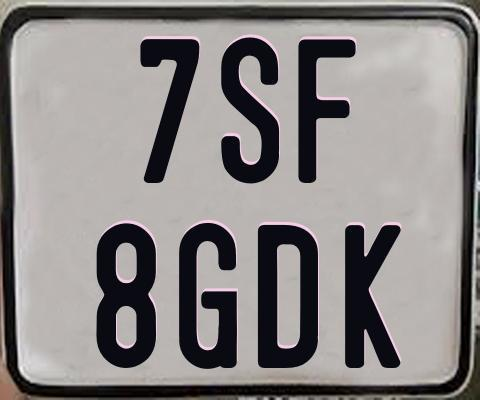7: (139, 36, 204, 180)
8: (96, 221, 161, 371)
D: (257, 223, 323, 369)
F: (298, 37, 360, 187)
G: (179, 223, 239, 369)
K: (342, 223, 402, 366)
S: (221, 36, 279, 183)
